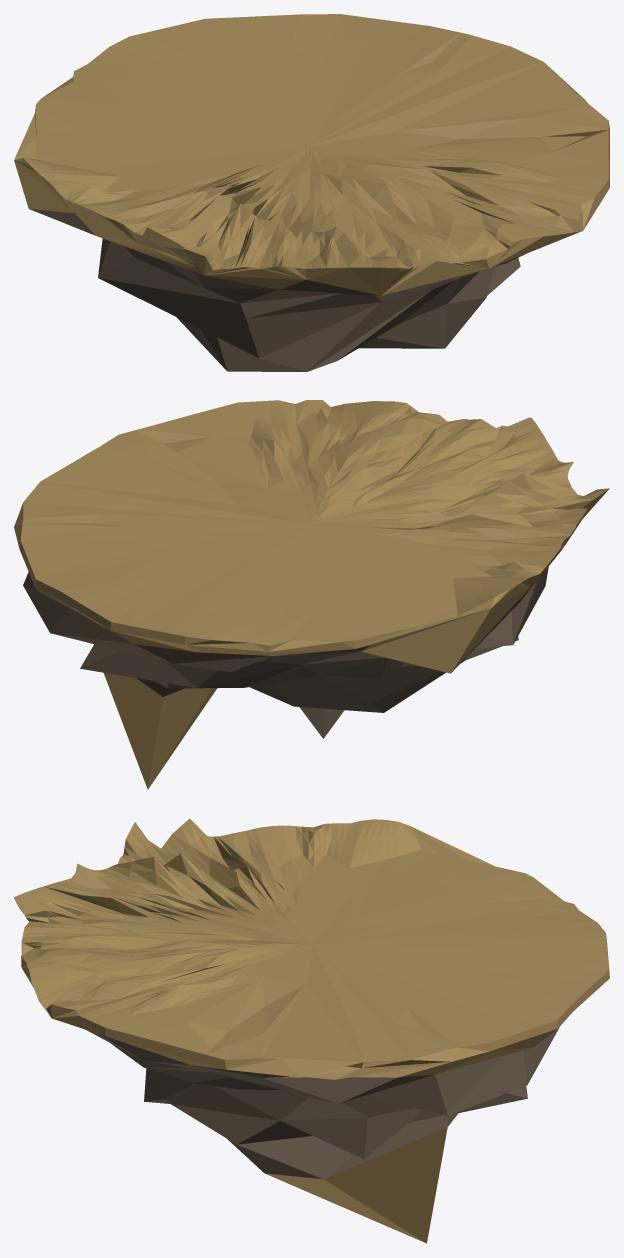
The model's file is desert_island_1.fbx.
3 renders of one model, top to bottom at view 1: azimuth 30°, elevation 25°; view 2: azimuth 150°, elevation 25°; view 3: azimuth 270°, elevation 25°, orthographic. The views are drawn at different scales.
Visible parts, largest first — view 1: Cone_1.003; view 2: Cone_1.003; view 3: Cone_1.003.
Part boxes in pixels (box(x1,y1,x2,y2)): Cone_1.003: box(14, 14, 609, 371); Cone_1.003: box(14, 400, 609, 789); Cone_1.003: box(14, 818, 609, 1243).
Bounding box in the file's own units: 8707 × 4785 × 9397.
